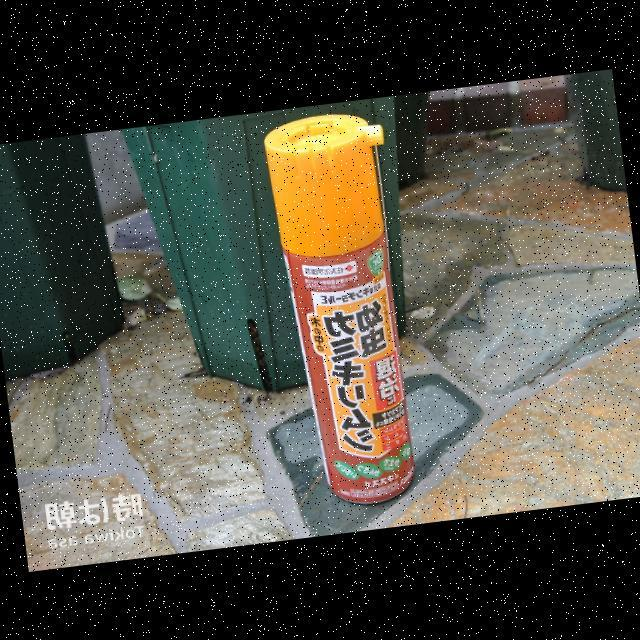chemical_spray_can: (243, 97, 457, 523)
